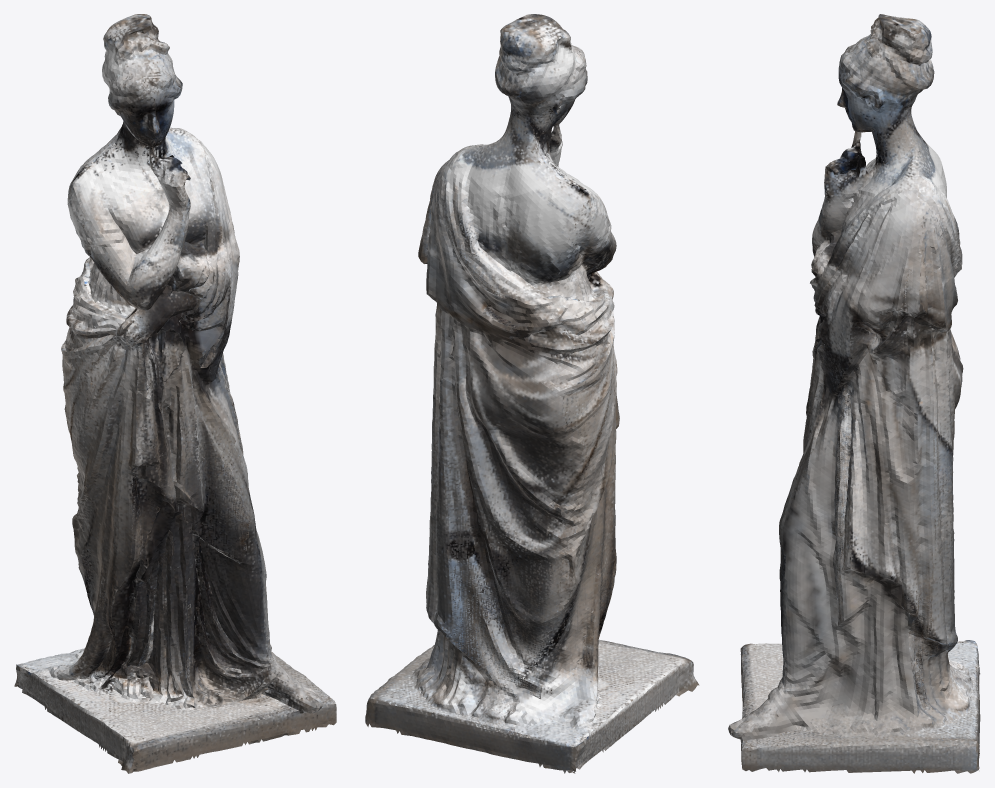
The model's file is textured_texpainter.glb.
3 views of the same model, side by side, from view 1: azimuth 30°, elevation 25°; view 2: azimuth 150°, elevation 25°; view 3: azimuth 270°, elevation 25° (orthographic). The views are drawn at different scales.
Visible parts, largest first — view 1: Node-Mesh; view 2: Node-Mesh; view 3: Node-Mesh.
Part boxes in pixels (x1=…): Node-Mesh: x1=14, y1=14, x2=336, y2=773; Node-Mesh: x1=365, y1=14, x2=699, y2=773; Node-Mesh: x1=728, y1=14, x2=980, y2=773.
Size of the model in its own units: 0.6459 by 2 by 0.6593.
Materials: 1 (1 with a texture image).
